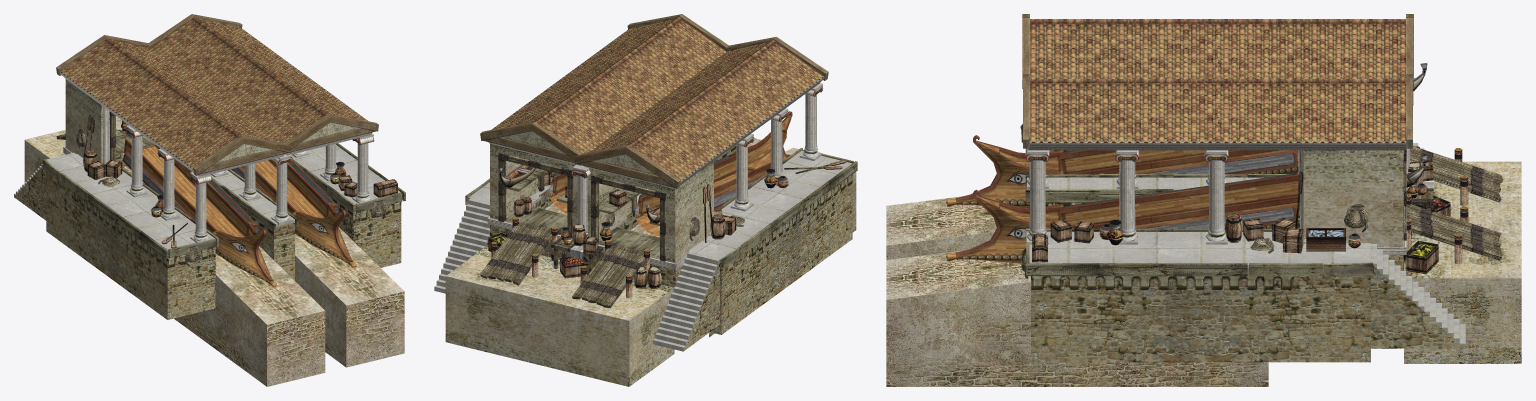
The model's file is dock.glb.
3 renders of one model, left to right at view 1: azimuth 30°, elevation 25°; view 2: azimuth 150°, elevation 25°; view 3: azimuth 270°, elevation 25°, orthographic. The views are drawn at different scales.
Size of the model in its own units: 0.5795 by 0.4806 by 0.9469.
Materials: 7 (7 with a texture image).
